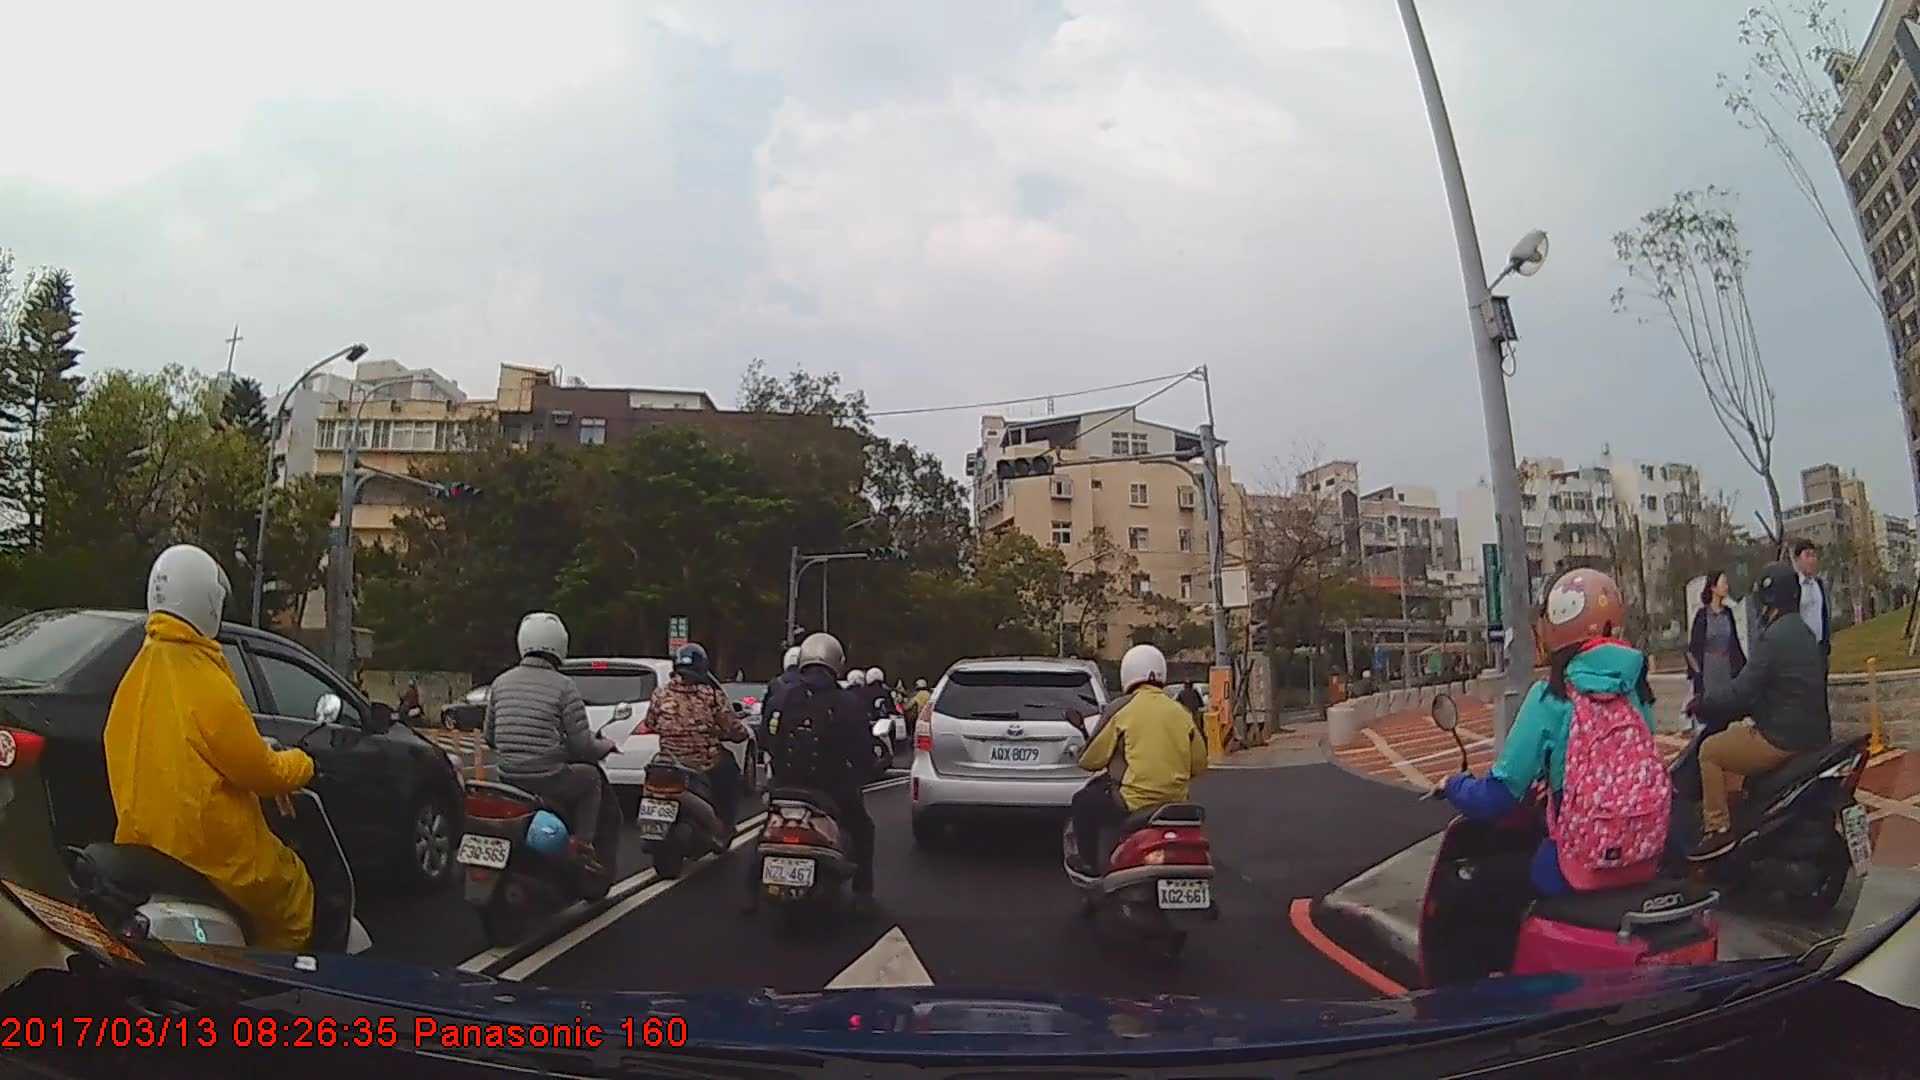pedestrian: (1775, 534, 1840, 766), (1689, 577, 1747, 797)
rider: (1408, 567, 1735, 1038), (65, 543, 373, 1019), (1662, 560, 1853, 913), (456, 607, 619, 952), (1061, 642, 1224, 962), (754, 634, 890, 941), (634, 642, 759, 878), (900, 676, 937, 745), (1176, 676, 1208, 747)
vehicle: (0, 606, 467, 932), (903, 657, 1130, 845), (520, 656, 757, 817), (439, 684, 543, 732)
